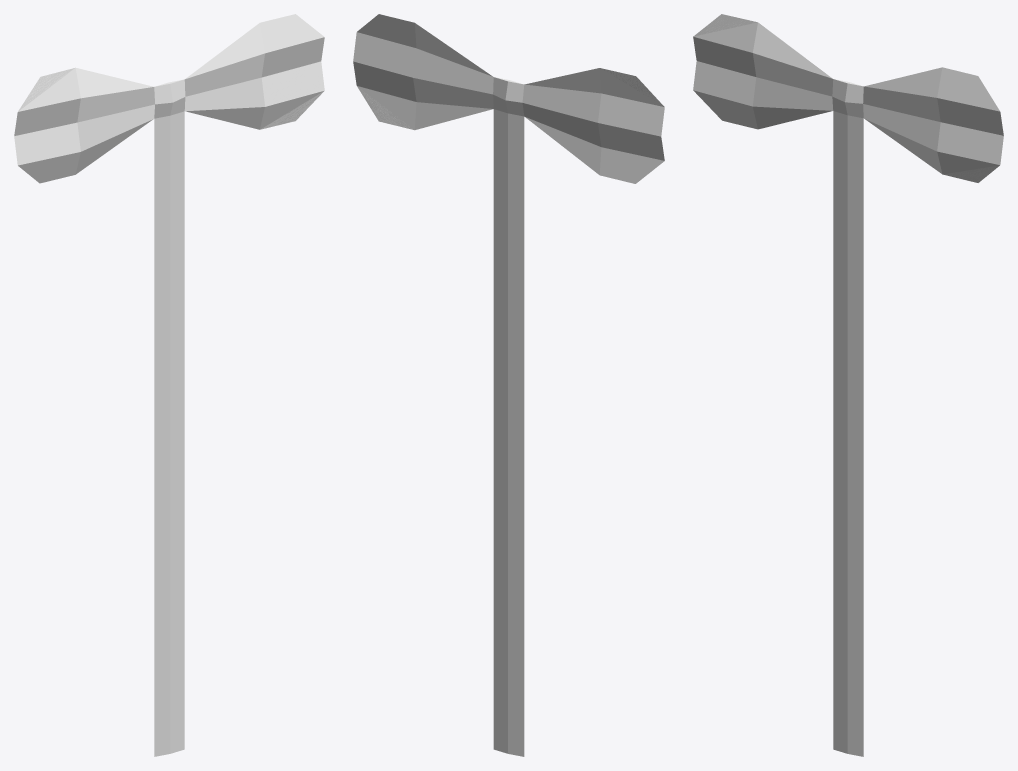
File: Beeyond_Kite_Tail.fbx
3 views of the same model, side by side, from view 1: azimuth 30°, elevation 25°; view 2: azimuth 150°, elevation 25°; view 3: azimuth 330°, elevation 25° (orthographic).
Visible parts, largest first — view 1: pPlane13; view 2: pPlane13; view 3: pPlane13.
Part boxes in pixels (x1=…): pPlane13: x1=14, y1=14, x2=324, y2=756; pPlane13: x1=353, y1=14, x2=664, y2=756; pPlane13: x1=693, y1=14, x2=1003, y2=756.
Bounding box in the file's own units: 10.07 × 22.15 × 0.4.
